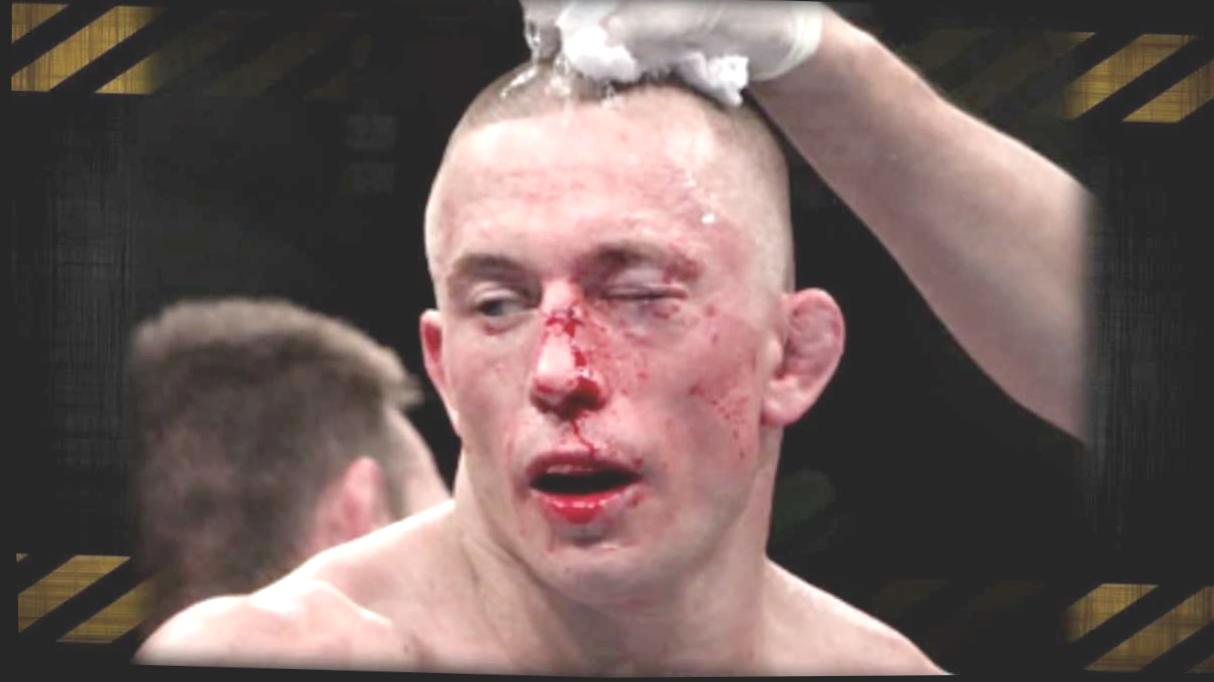Fire: (523, 295, 659, 455), (683, 346, 752, 449), (535, 486, 645, 524), (665, 257, 700, 280), (649, 306, 677, 319), (701, 298, 714, 314), (628, 453, 640, 469), (709, 329, 716, 345)
